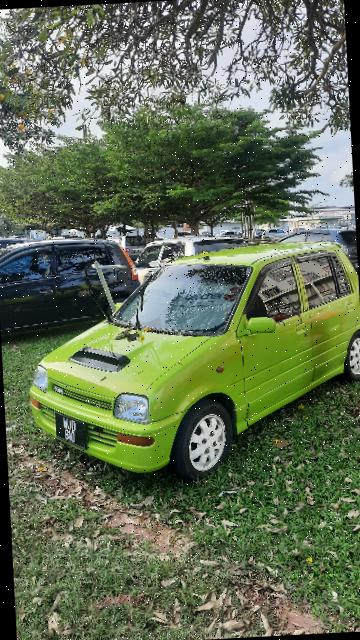License_Plate: (50, 407, 93, 455)
car: (19, 235, 360, 488)
